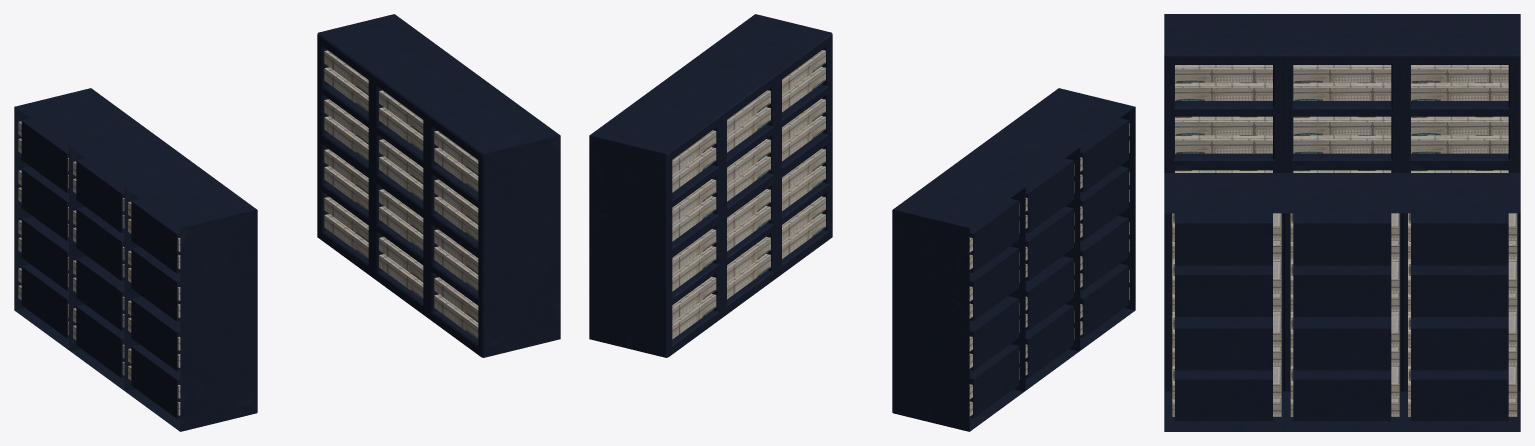
Rendered from servers.fbx.
3 renders of one model, left to right at view 1: azimuth 30°, elevation 25°; view 2: azimuth 150°, elevation 25°; view 3: azimuth 270°, elevation 25°, orthographic. The views are drawn at different scales.
Parts seen in each view (by area): view 1: server_shelf_1 (×6), server4 (×3), server2 (×3), server6 (×3), server8 (×3), server7 (×3), server3 (×3), server5 (×3), server1 (×3); view 2: server_shelf_1 (×6), server4 (×3), server2 (×3), server6 (×3), server8 (×3), server7 (×3), server3 (×3), server5 (×3), server1 (×3); view 3: server_shelf_1 (×6), server3 (×6), server1 (×5), server4 (×3), server2 (×3), server5 (×3), server7 (×3).
Boxes of the visible parts, x1,y1,x2,y2 form: server_shelf_1 (×6): (14,14,560,431); server4 (×3): (324,116,478,241); server2 (×3): (324,67,478,192); server6 (×3): (324,166,478,291); server8 (×3): (324,214,478,339); server7 (×3): (324,197,478,322); server3 (×3): (324,99,478,224); server5 (×3): (324,149,478,274); server1 (×3): (324,50,478,175); server_shelf_1 (×6): (589,14,1135,431); server4 (×3): (672,115,825,241); server2 (×3): (672,66,825,192); server6 (×3): (672,165,825,291); server8 (×3): (672,213,825,339); server7 (×3): (672,196,825,321); server3 (×3): (672,98,825,224); server5 (×3): (672,148,825,274); server1 (×3): (672,50,825,175); server_shelf_1 (×6): (1164,14,1520,431); server3 (×6): (1172,116,1517,293); server1 (×5): (1175,65,1517,240); server4 (×3): (1175,135,1508,153); server2 (×3): (1175,82,1508,100); server5 (×3): (1172,312,1517,347); server7 (×3): (1172,365,1517,398).
Bounding box in the file's own units: 390 × 200 × 295.
